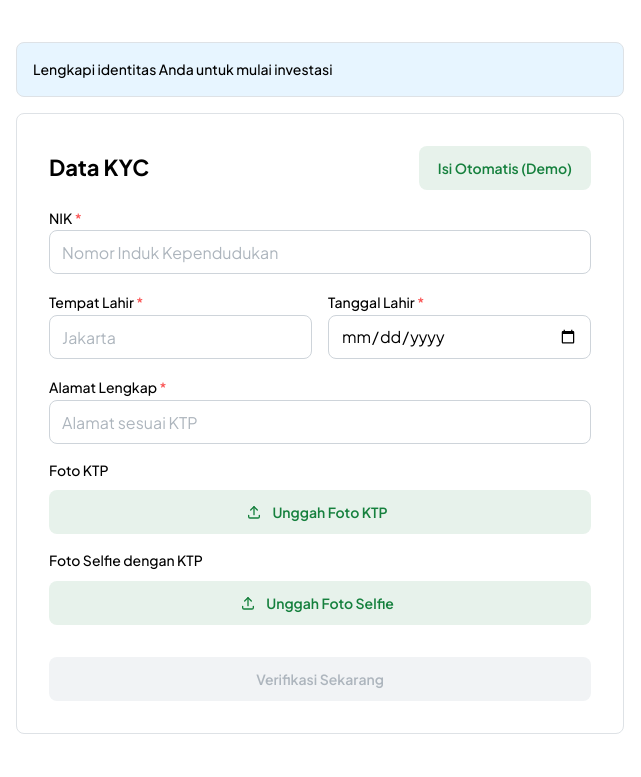
it: Registration, Login, and KYC Flow › KYC "Isi Otomatis (Demo)" button fills template fields
The image size is (641, 777).
expect the button "Isi Otomatis (Demo)" is shown: met, box x1=438 y1=159 x2=572 y2=177
Click the button "Isi Otomatis (Demo)".
click(505, 168)  # box x1=419 y1=146 x2=591 y2=190
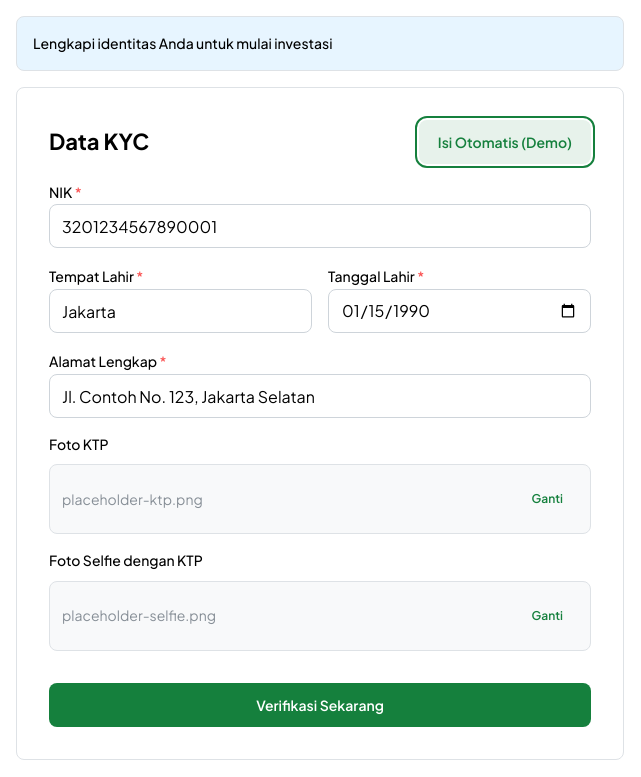
expect the field showing "3201234567890001" is shown: met, box x1=49 y1=204 x2=591 y2=248
